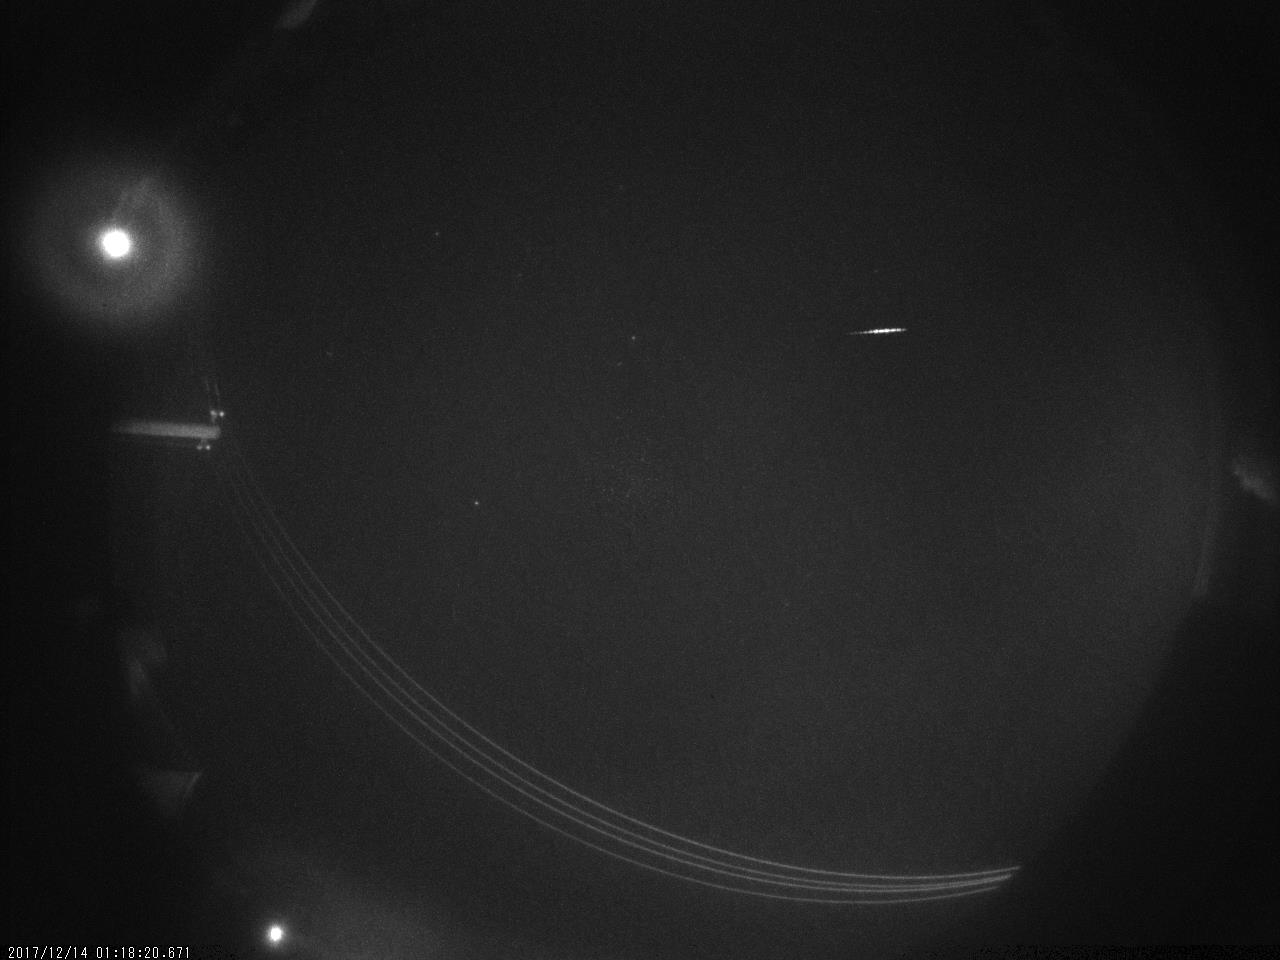meteor: (823, 316, 927, 353)
